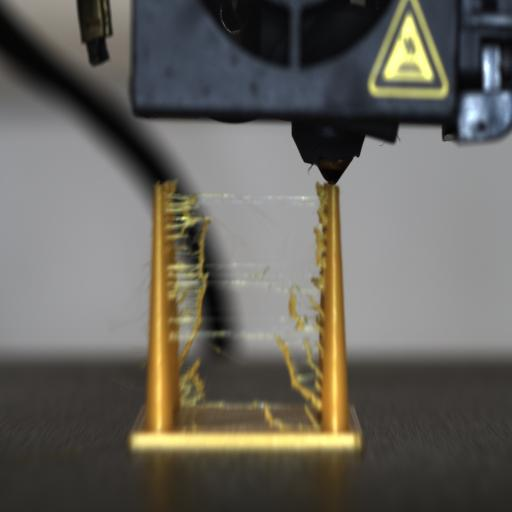stringing: (156, 184, 329, 424)
